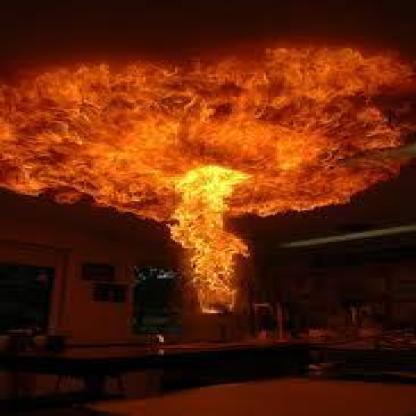Fire: (0, 30, 409, 316)
